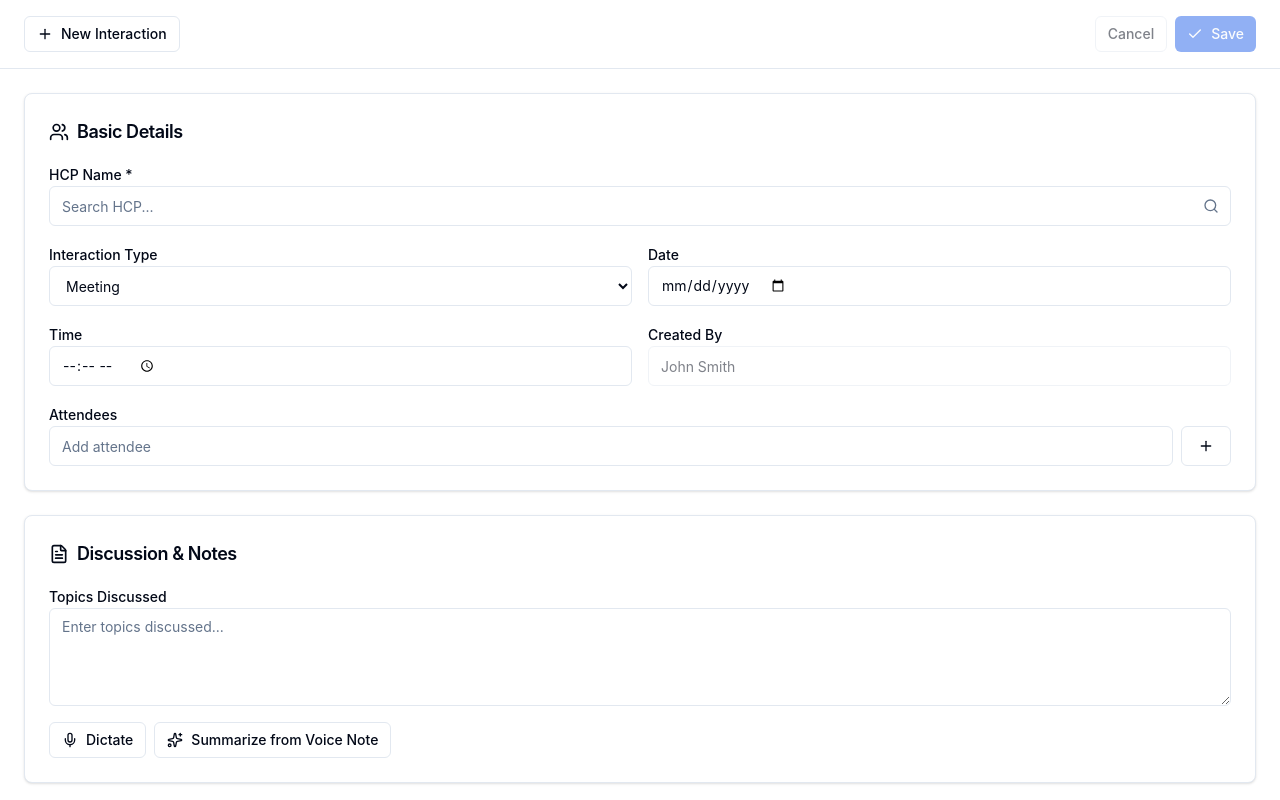
it: InteractionForm UI Functionality › Attendees Management › should add attendee when clicking button
Type "Dr. Jane" into the field with placeholder "Add attendee" at point(611, 446), box [49, 426, 1173, 466]
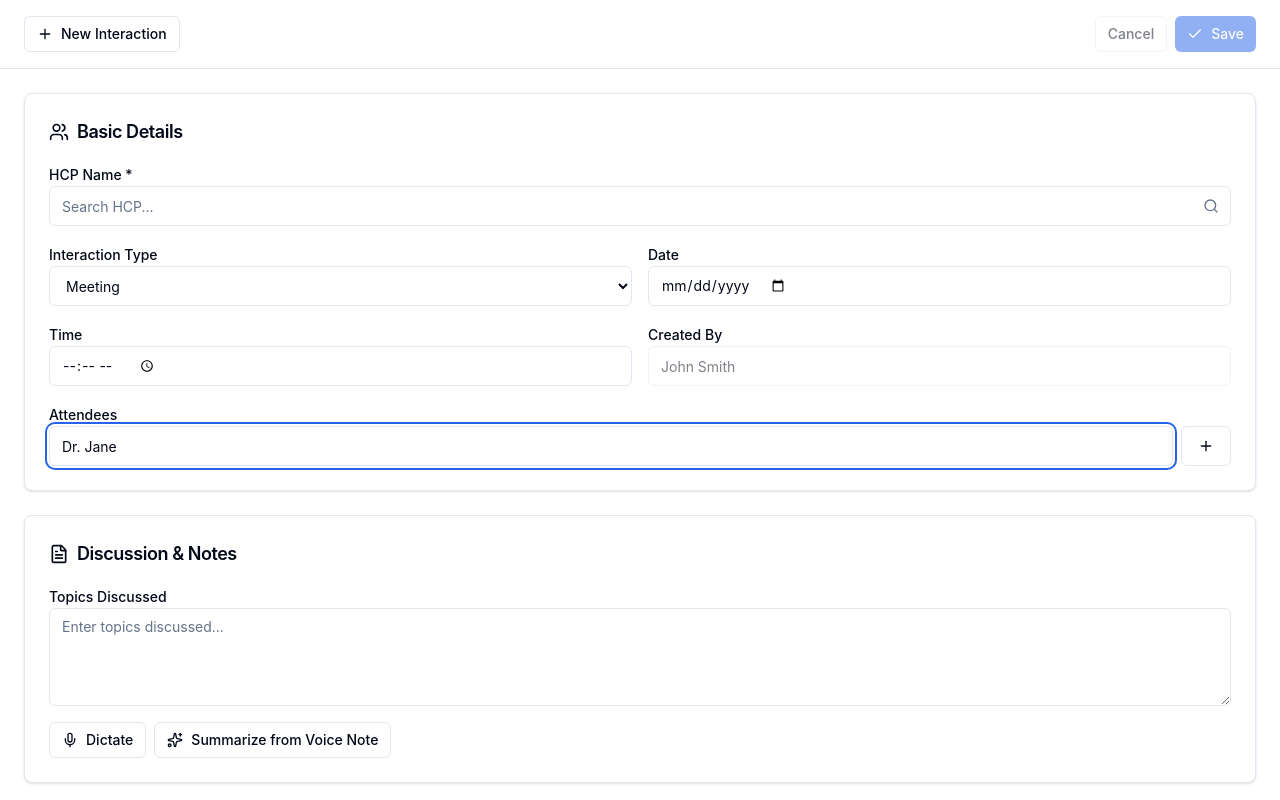
Click the 4th button at point(1206, 446), box [1181, 426, 1231, 466]
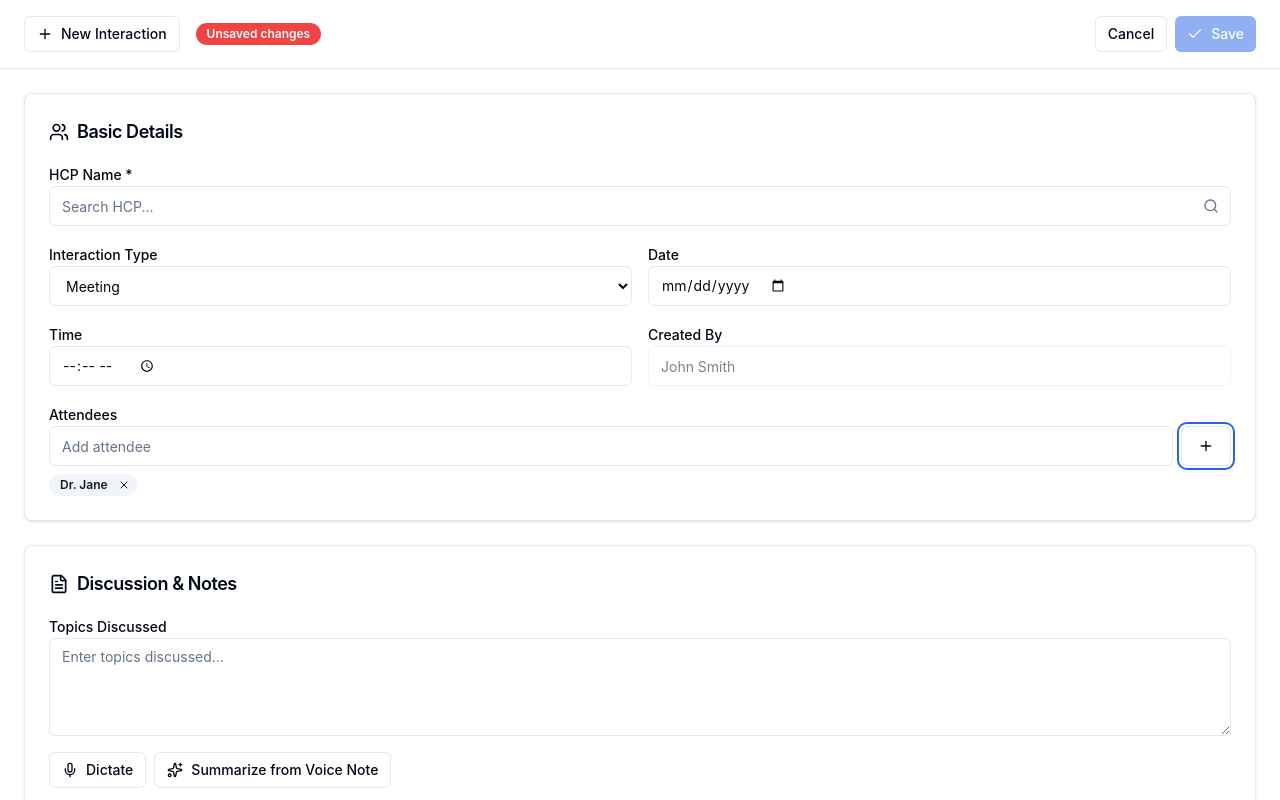
expect the text "Dr. Jane" is shown: met, box [49, 474, 137, 496]
